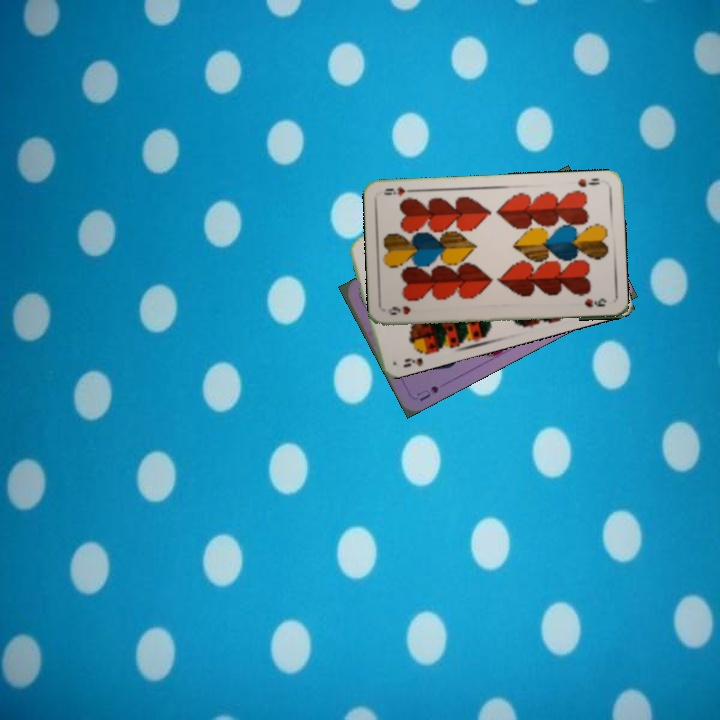H9: (573, 174, 602, 190), (384, 302, 413, 317)
S9: (399, 347, 434, 370)
SU: (413, 381, 441, 404)
